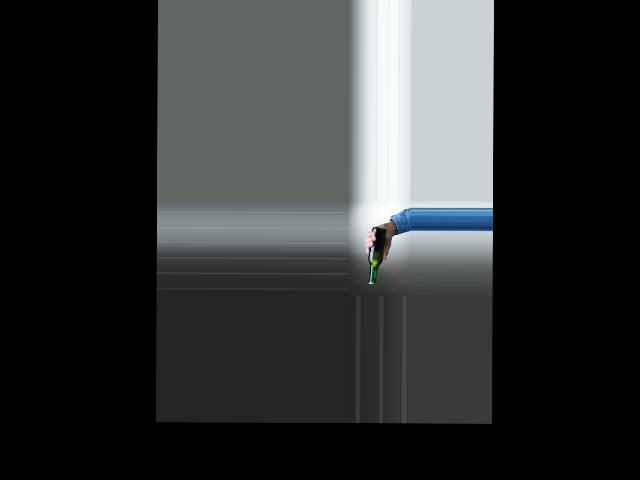beer: (367, 227, 387, 283)
